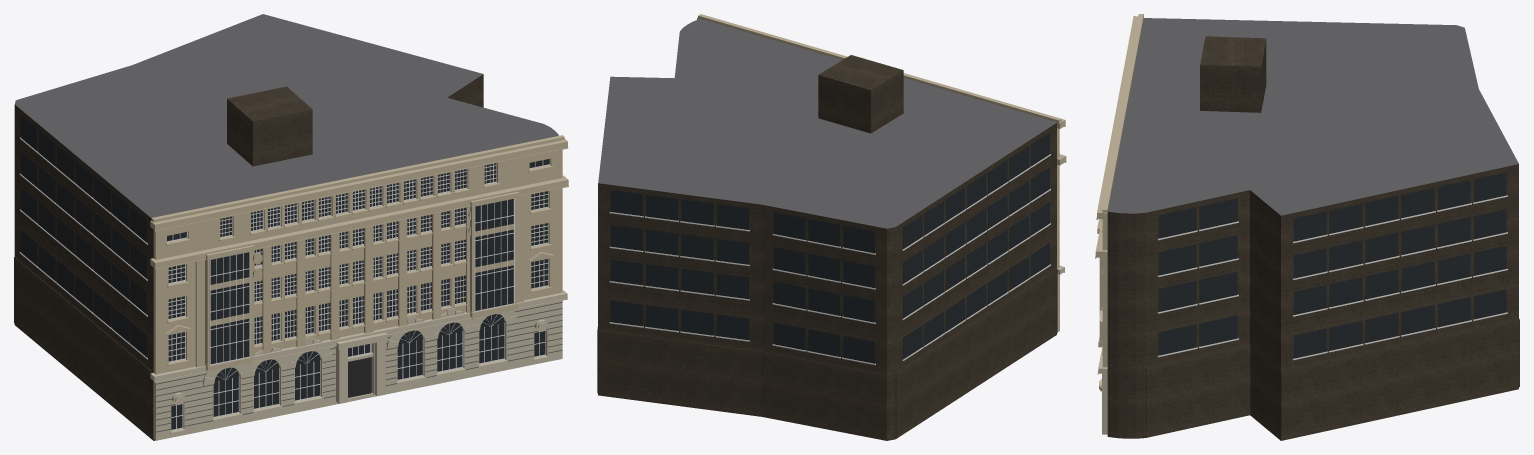
File: mo_barclay_hero.glb
The picture shows the model from 3 angles, left to right: view 1: azimuth 30°, elevation 25°; view 2: azimuth 150°, elevation 25°; view 3: azimuth 270°, elevation 25°; orthographic projection. The views are drawn at different scales.
Parts seen in each view (by area): view 1: HERO_body, HERO_front_terracotta, HERO_front_stone_base, HERO_side_block_base.004, HERO_roof_tower, HERO_cornice.002, HERO_glass.089, HERO_glass.090, HERO_cornice.001, HERO_parapet, HERO_cornice, HERO_glass.005 (+18 smaller); view 2: HERO_body, HERO_side_block_base.002, HERO_side_block_base.004, HERO_side_block_base.003, HERO_roof_tower, HERO_parapet, HERO_side_glass.034, HERO_side_glass.038, HERO_side_glass.046, HERO_side_glass.032, HERO_side_glass.036, HERO_side_glass.041 (+50 smaller); view 3: HERO_body, HERO_side_block_base.001, HERO_side_block_base, HERO_roof_tower, HERO_parapet, HERO_cornice.002, HERO_side_glass.005, HERO_side_glass, HERO_side_glass.006, HERO_side_glass.001, HERO_side_glass.002, HERO_side_glass.003 (+27 smaller).
Part boxes in pixels (box(x1,y1,x2,y2)): HERO_body: box(14, 14, 558, 440); HERO_front_terracotta: box(153, 149, 562, 374); HERO_front_stone_base: box(153, 300, 562, 440); HERO_side_block_base.004: box(14, 257, 153, 438); HERO_roof_tower: box(227, 86, 312, 166); HERO_cornice.002: box(150, 139, 567, 230); HERO_glass.089: box(210, 252, 249, 364); HERO_glass.090: box(475, 199, 513, 310); HERO_cornice.001: box(150, 175, 568, 268); HERO_parapet: box(151, 135, 564, 222); HERO_cornice: box(150, 290, 567, 381); HERO_glass.005: box(479, 314, 504, 363); HERO_body: box(598, 19, 1056, 440); HERO_side_block_base.002: box(598, 330, 761, 414); HERO_side_block_base.004: box(895, 269, 1057, 437); HERO_side_block_base.003: box(761, 351, 886, 438); HERO_roof_tower: box(818, 55, 903, 133); HERO_parapet: box(698, 14, 1061, 122); HERO_side_glass.034: box(681, 309, 713, 335); HERO_side_glass.038: box(681, 268, 713, 294); HERO_side_glass.046: box(681, 199, 713, 225); HERO_side_glass.032: box(610, 300, 642, 326); HERO_side_glass.036: box(610, 259, 642, 285); HERO_side_glass.041: box(646, 229, 678, 255); HERO_body: box(1107, 18, 1518, 440); HERO_side_block_base.001: box(1281, 319, 1519, 438); HERO_side_block_base: box(1146, 346, 1250, 435); HERO_roof_tower: box(1200, 36, 1266, 112); HERO_parapet: box(1102, 14, 1143, 212); HERO_cornice.002: box(1097, 16, 1143, 219); HERO_side_glass.005: box(1199, 235, 1237, 266); HERO_side_glass: box(1158, 324, 1196, 355); HERO_side_glass.006: box(1158, 207, 1196, 238); HERO_side_glass.001: box(1199, 315, 1237, 346); HERO_side_glass.002: box(1158, 280, 1196, 311); HERO_side_glass.003: box(1199, 271, 1237, 302).
Bounding box in the file's own units: 38.64 × 24.43 × 34.67.
Materials: 9 (2 with a texture image).
